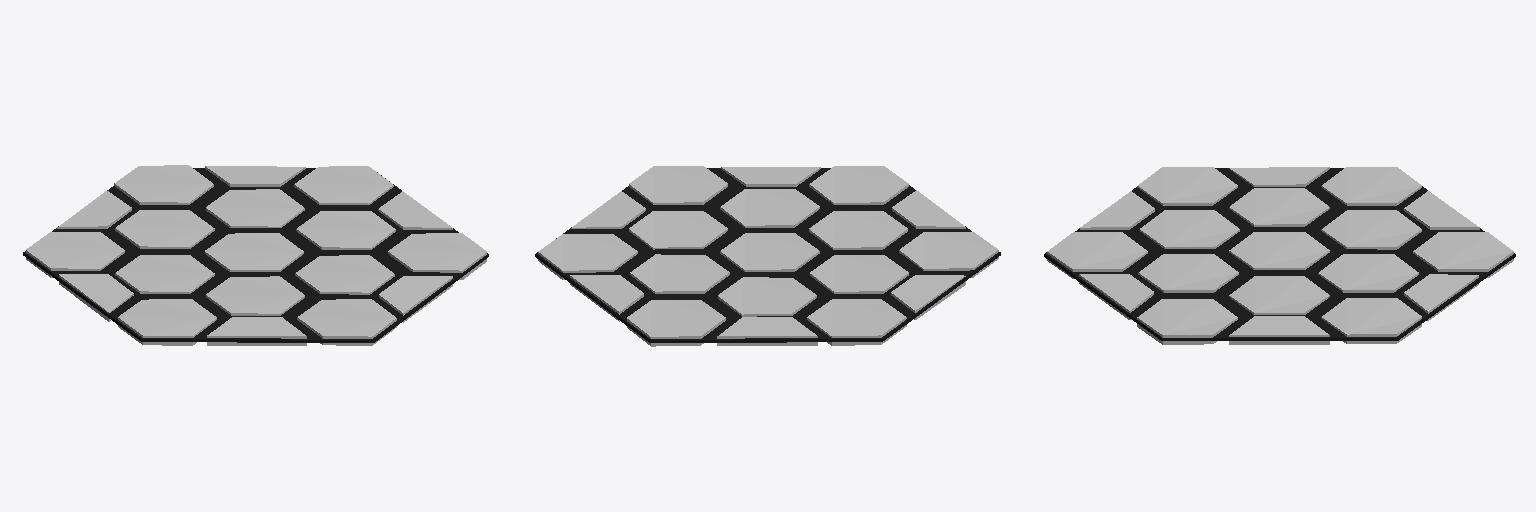
Rendered from pazzles.obj.
The picture shows the model from 3 angles: view 1: azimuth 30°, elevation 25°; view 2: azimuth 150°, elevation 25°; view 3: azimuth 270°, elevation 25°; orthographic projection.
Parts seen in each view (by area): view 1: border_Icosphere, 9_Icosphere.022, 15_Icosphere.031, 1_Icosphere.032, 17_Icosphere.030, 13_Icosphere.029, 10_Icosphere.046, 5_Icosphere.039, 12_Icosphere.038, 6_Icosphere.034, 16_Icosphere.035, 11_Icosphere.036 (+8 smaller); view 2: border_Icosphere, 17_Icosphere.030, 13_Icosphere.029, 15_Icosphere.031, 3_Icosphere.033, 9_Icosphere.022, 7_Icosphere.045, 1_Icosphere.032, 11_Icosphere.036, 5_Icosphere.039, 16_Icosphere.035, 12_Icosphere.038 (+8 smaller); view 3: border_Icosphere, 1_Icosphere.032, 3_Icosphere.033, 13_Icosphere.029, 9_Icosphere.022, 12_Icosphere.038, 5_Icosphere.039, 16_Icosphere.035, 10_Icosphere.046, 17_Icosphere.030, 6_Icosphere.034, 7_Icosphere.045 (+8 smaller).
Boxes of the visible parts, <box> form: border_Icosphere: <box>23,168,488,342</box>; 9_Icosphere.022: <box>297,299,396,345</box>; 15_Icosphere.031: <box>118,299,216,345</box>; 1_Icosphere.032: <box>388,233,486,279</box>; 17_Icosphere.030: <box>26,232,124,277</box>; 13_Icosphere.029: <box>114,165,213,204</box>; 10_Icosphere.046: <box>206,276,304,315</box>; 5_Icosphere.039: <box>295,255,394,294</box>; 12_Icosphere.038: <box>115,210,214,248</box>; 6_Icosphere.034: <box>296,211,395,249</box>; 16_Icosphere.035: <box>115,255,214,293</box>; 11_Icosphere.036: <box>205,233,303,271</box>; border_Icosphere: <box>535,168,1000,342</box>; 17_Icosphere.030: <box>807,299,906,345</box>; 13_Icosphere.029: <box>627,300,725,346</box>; 15_Icosphere.031: <box>899,232,998,277</box>; 3_Icosphere.033: <box>538,234,637,279</box>; 9_Icosphere.022: <box>809,166,908,204</box>; 7_Icosphere.045: <box>630,254,729,293</box>; 1_Icosphere.032: <box>629,166,727,204</box>; 11_Icosphere.036: <box>720,233,819,271</box>; 5_Icosphere.039: <box>720,189,819,227</box>; 16_Icosphere.035: <box>810,255,908,293</box>; 12_Icosphere.038: <box>718,277,816,316</box>; border_Icosphere: <box>1044,168,1515,340</box>; 1_Icosphere.032: <box>1137,299,1237,344</box>; 3_Icosphere.033: <box>1321,298,1421,343</box>; 13_Icosphere.029: <box>1413,232,1513,277</box>; 9_Icosphere.022: <box>1047,232,1147,278</box>; 12_Icosphere.038: <box>1321,210,1421,249</box>; 5_Icosphere.039: <box>1138,254,1238,292</box>; 16_Icosphere.035: <box>1229,188,1329,226</box>; 10_Icosphere.046: <box>1140,210,1239,248</box>; 17_Icosphere.030: <box>1321,167,1421,205</box>; 6_Icosphere.034: <box>1229,276,1329,314</box>; 7_Icosphere.045: <box>1318,254,1418,292</box>.
Bounding box in the file's own units: 2.28 × 0.0715 × 2.67.